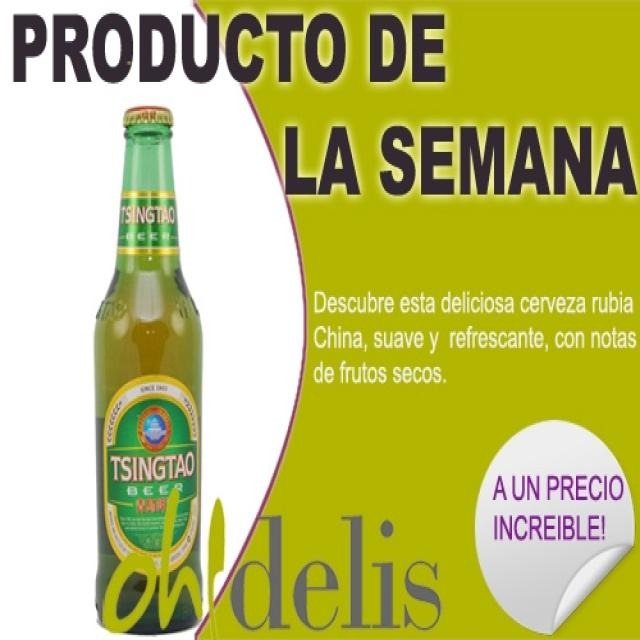tsingtao: (100, 373, 202, 576)
